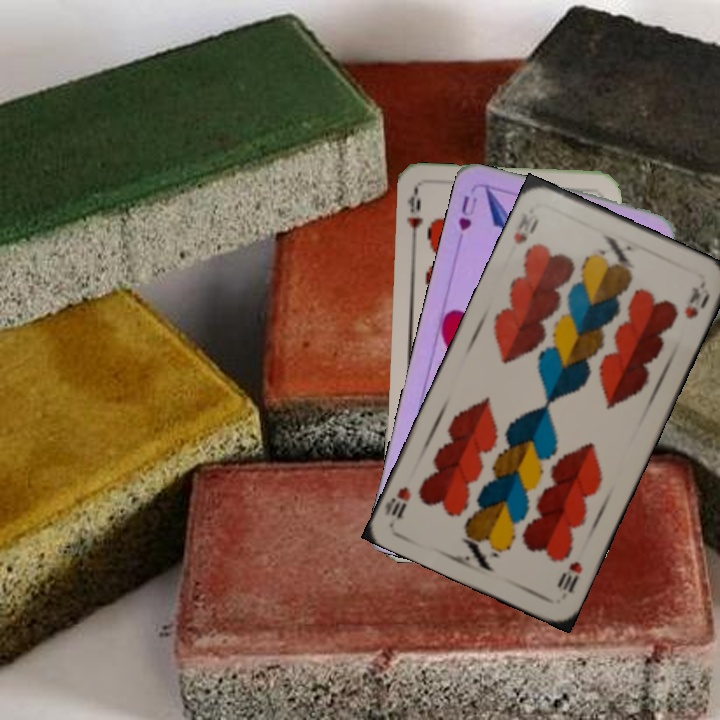H10: (509, 210, 542, 247), (553, 557, 585, 595)
H9: (402, 187, 425, 246)
HU: (454, 191, 480, 234)
